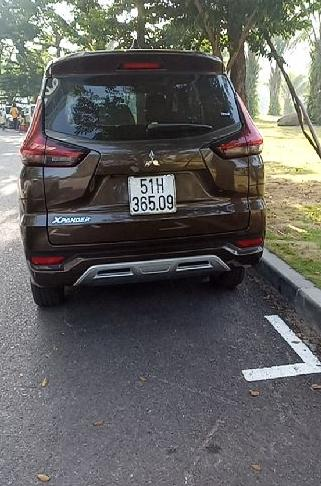Plate-iWeP: (126, 170, 181, 216)
